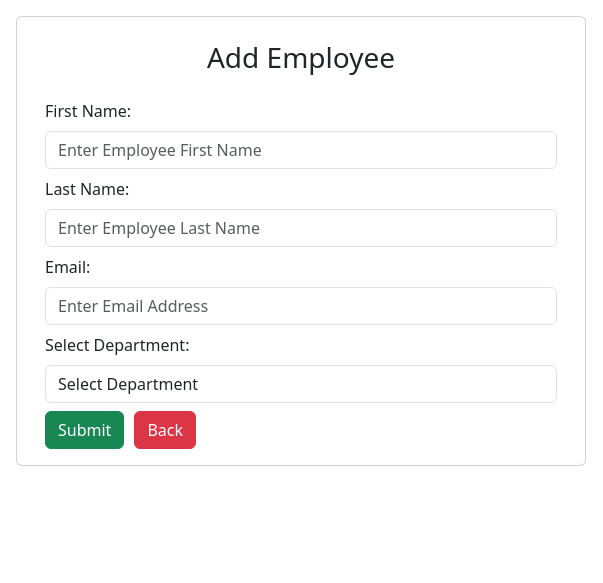
Test: EmployeeComponent › validates form fields before submission
Click the button "Submit" at x=85, y=430, box [45,411,124,449]
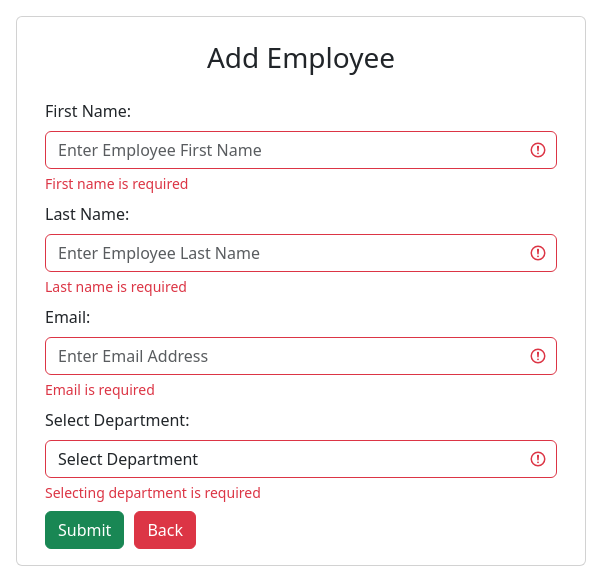
Now the text "First name is required" is shown, box [45,174,188,193]
Now the text "Last name is required" is shown, box [45,277,187,296]
Now the text "Email is required" is shown, box [45,380,155,399]
